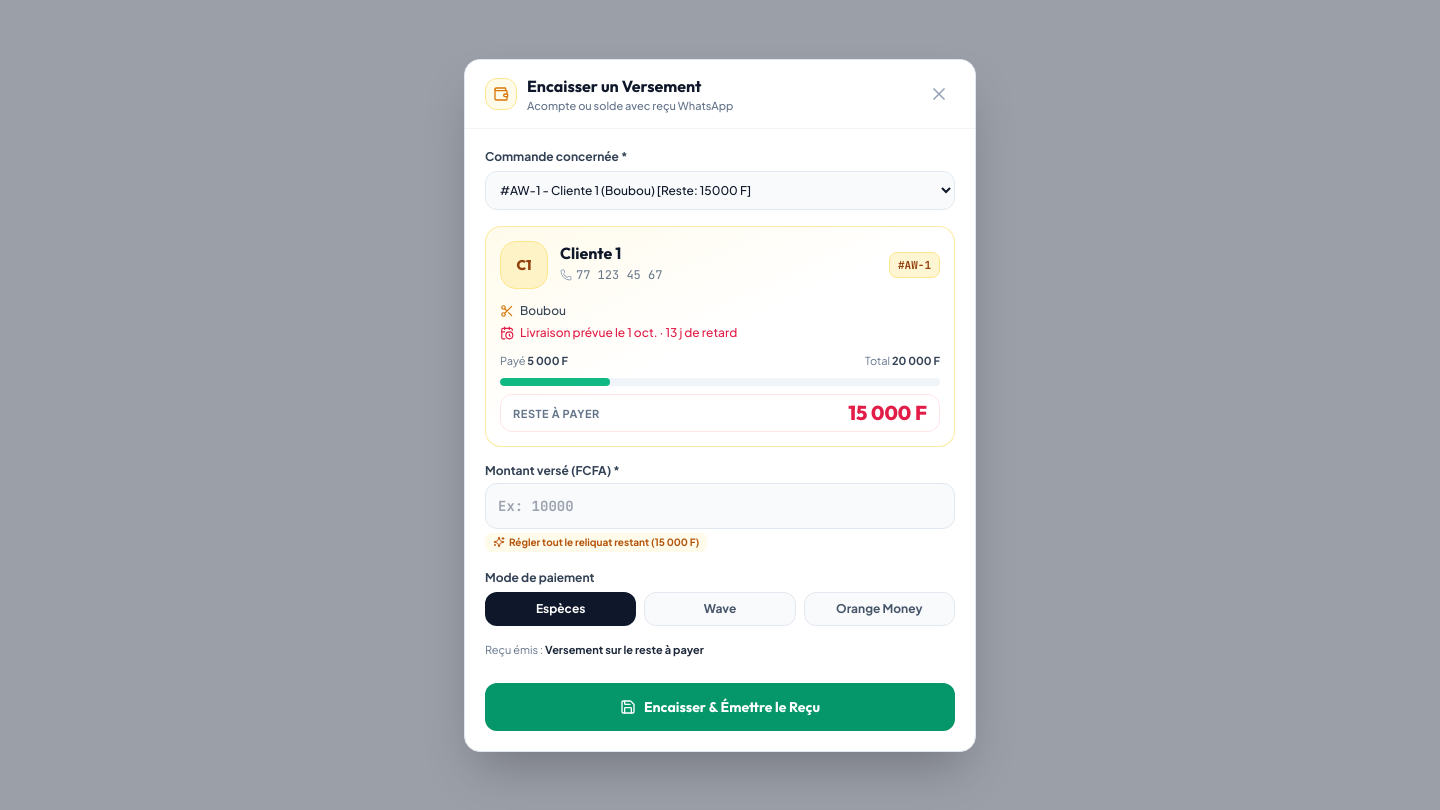
Test: PaymentModal › affiche l’écran de reçu avec le numéro renvoyé par le serveur
Type "5000" into the number field labelled "Montant versé (FCFA) *".
click(720, 506); type("5000")  # box [485,482,955,528]
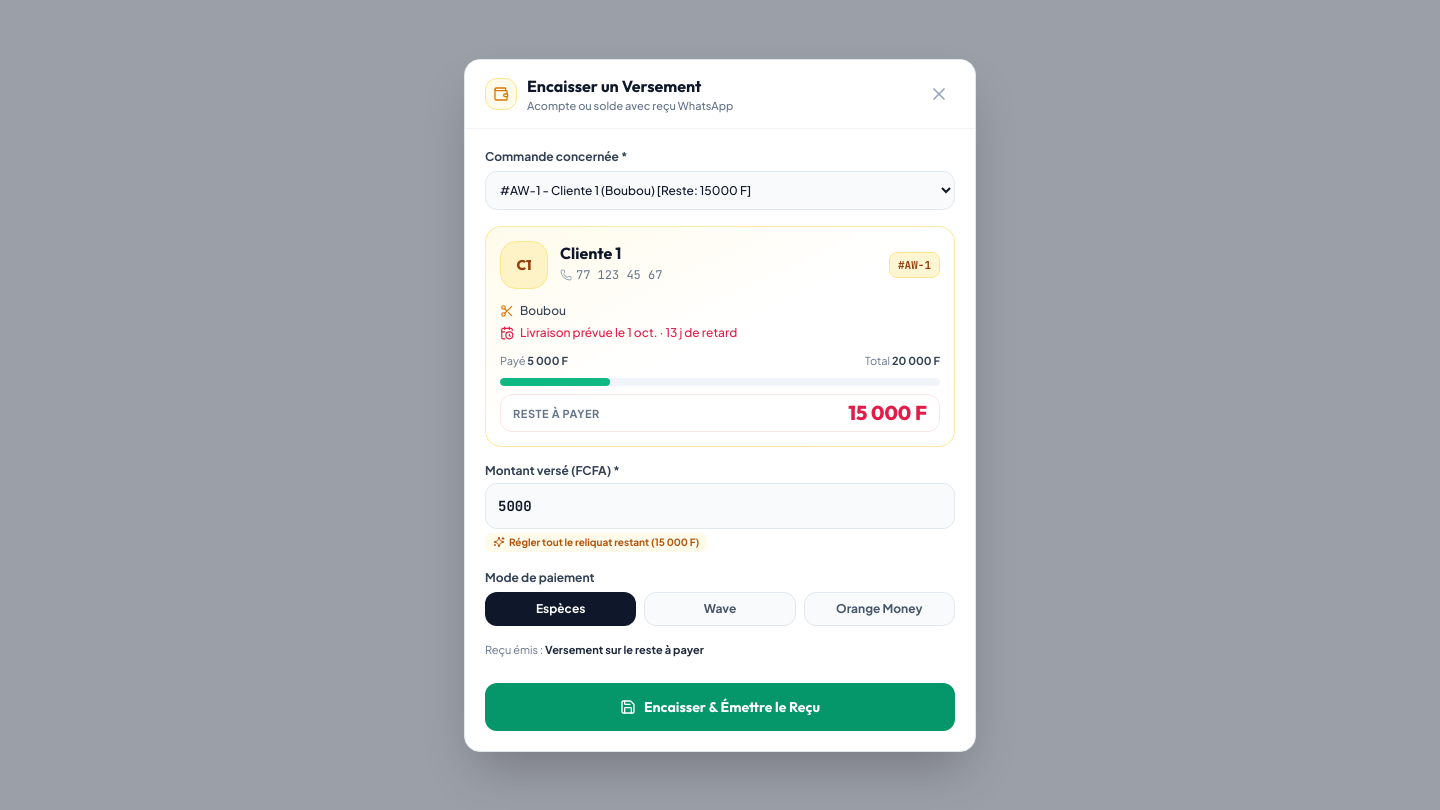
Click the button "Encaisser & Émettre le Reçu".
click(720, 706)  # box [485,682,955,730]
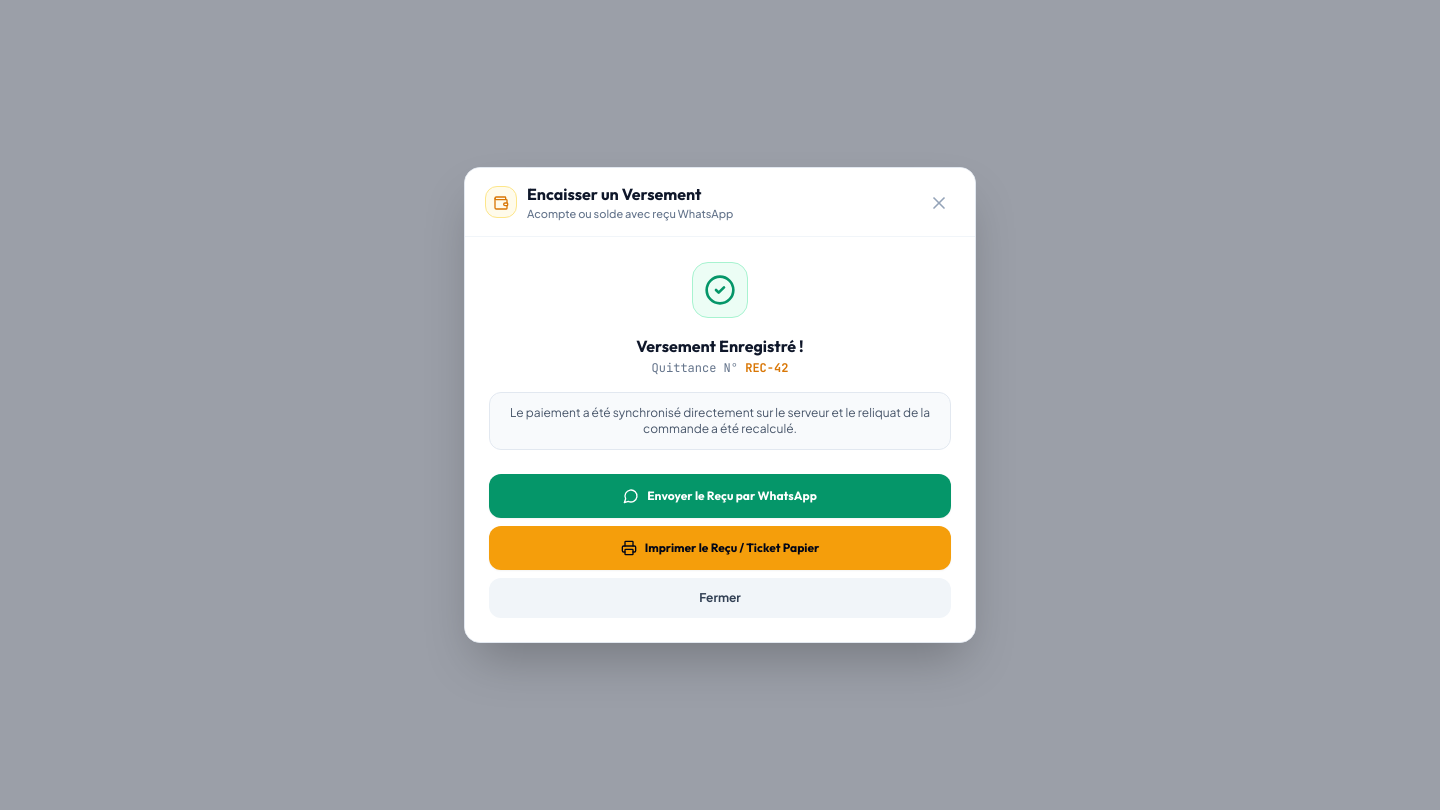
expect the heading "Versement Enregistré !" is shown: met, box [636,336,804,356]
expect the text "REC-42" is shown: met, box [745,360,788,376]
